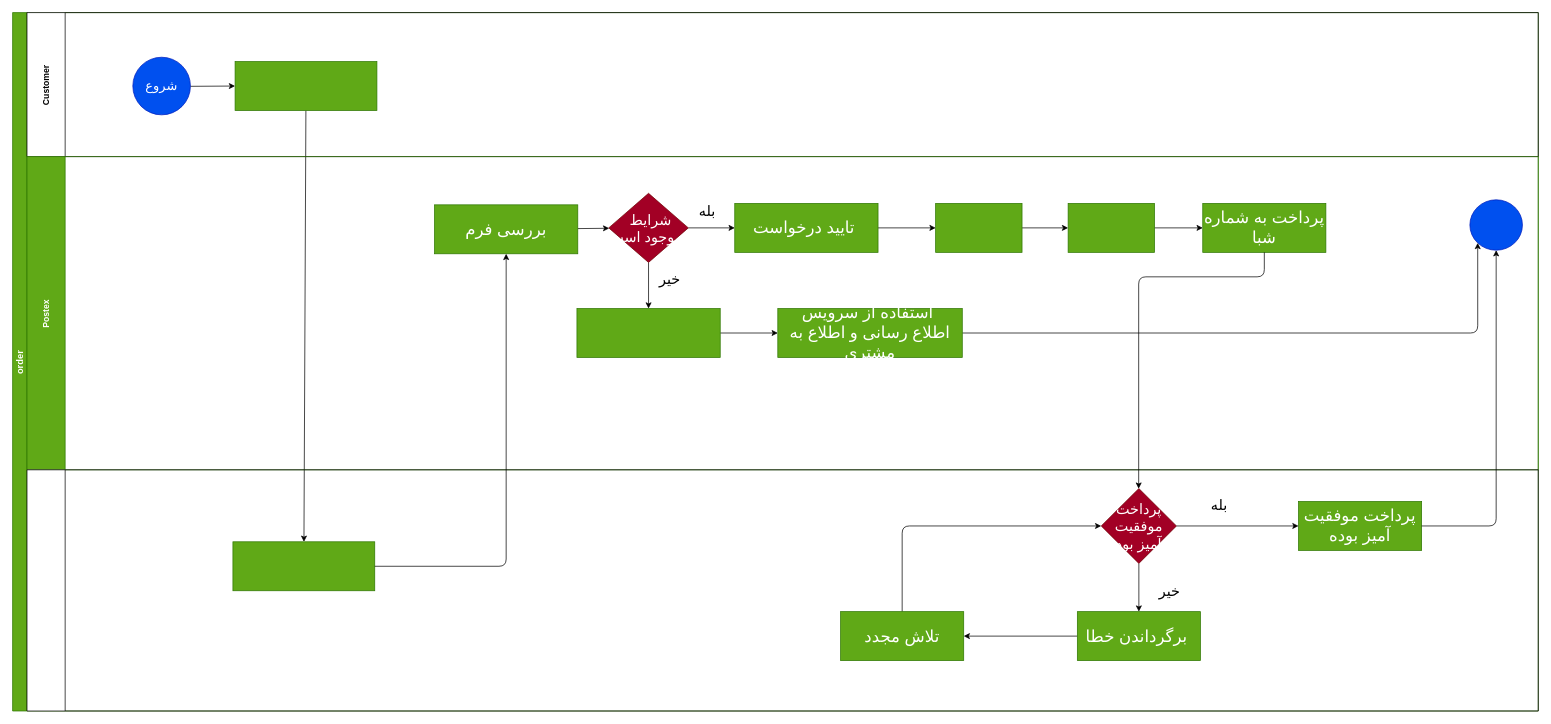
Some shapes in this 1551 by 724 pixel diagram are drawn without their labels. The box of each missing label's shape, as (x1, y1, x2, y2) in pixels:
Vendor: (26, 469, 1538, 711)
ارسال فرم در کارتابل مالی: (232, 541, 375, 591)
ایجاد اکسل: (1067, 203, 1155, 252)
رد درخواست: (576, 308, 720, 357)
منفی کردن کیف پول: (935, 203, 1022, 252)
پایان: (1469, 199, 1522, 250)
پر کردن فرم درخواست تسویه: (234, 61, 377, 111)
